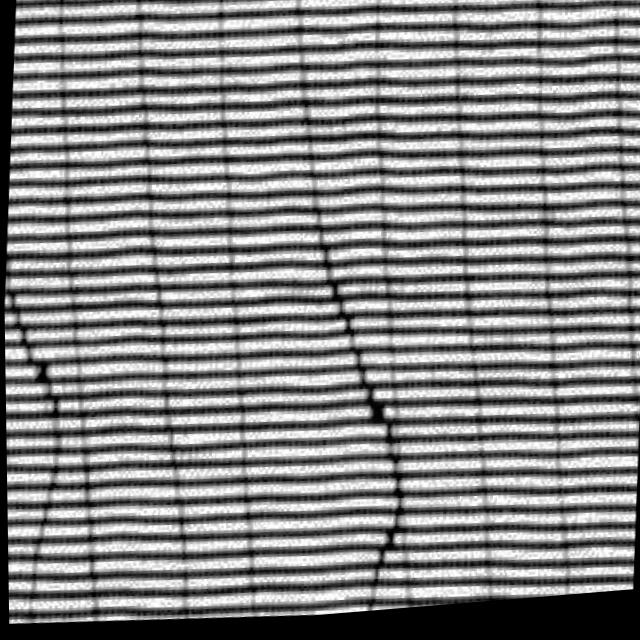Stitch: (313, 255, 422, 620)
